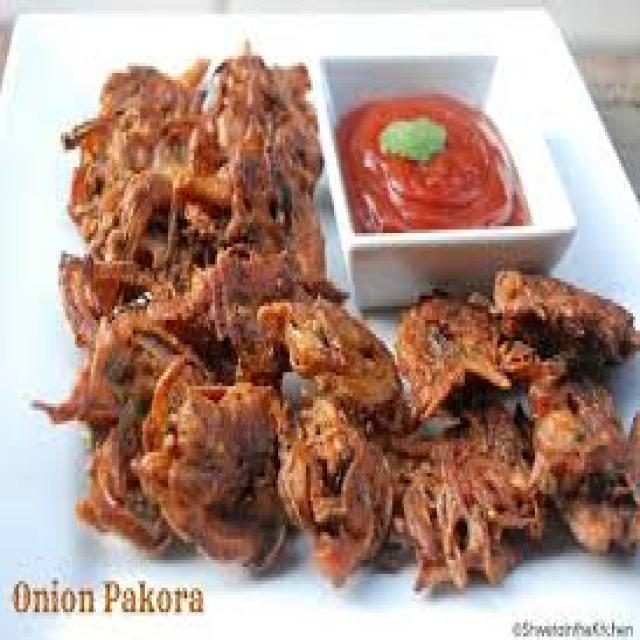BAJI: (35, 45, 551, 581)
